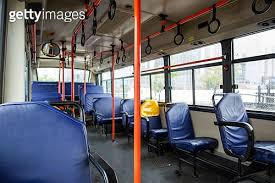seat: (167, 102, 218, 154)
